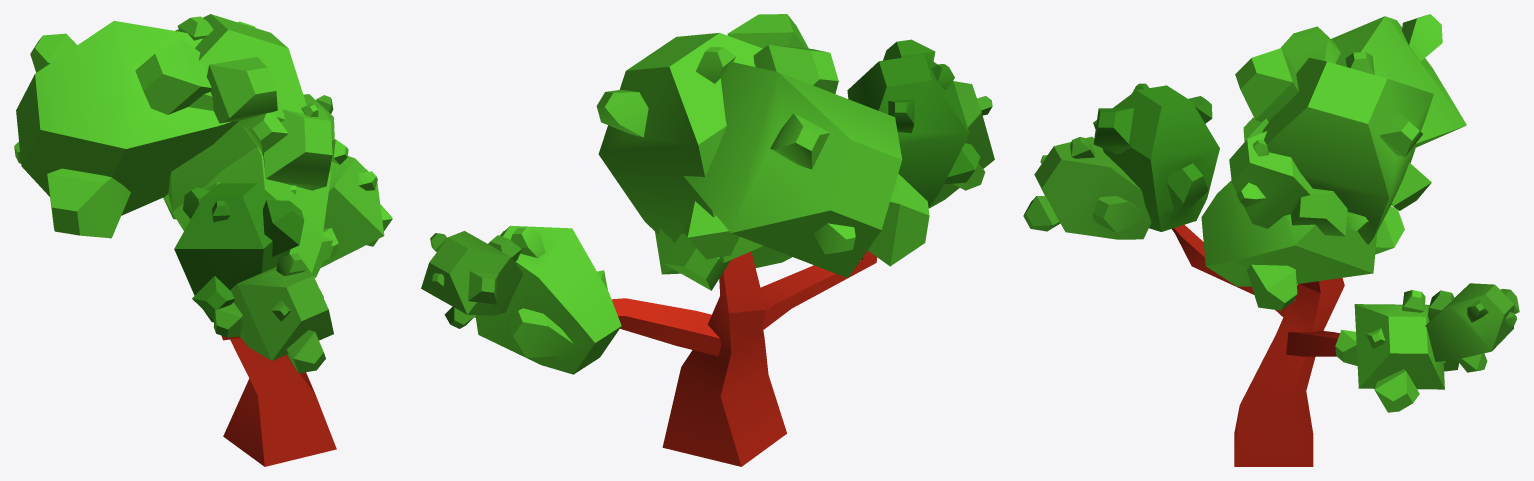
The model's file is basic_tree.obj.
The picture shows the model from 3 angles, left to right: view 1: azimuth 30°, elevation 25°; view 2: azimuth 150°, elevation 25°; view 3: azimuth 270°, elevation 25°; orthographic projection. The views are drawn at different scales.
Parts seen in each view (by area): view 1: BranchesCBranchesuBranchesbBrancheseBranches.Branches0Branc.005, BranchesCBranchesuBranchesbBrancheseBranches.Branches0Branc.004, BranchesCBranchesuBranchesbBrancheseBranches.Branches0Branches0, BranchesCBranchesuBranchesbBrancheseBranchesBranch, Trunk, BranchesCBranchesuBranchesbBrancheseBranches.Branches0Branc.003, BranchesCBranchesuBranchesbBrancheseBranches.Branches0BrancBran, BranchesCBranchesuBranchesbBrancheseBranches.Branches0Branc.002, BranchesCBranchesuBranchesbBrancheseBranches.Branches0Branc.001; view 2: BranchesCBranchesuBranchesbBrancheseBranches.Branches0Branc.005, Trunk, BranchesCBranchesuBranchesbBrancheseBranches.Branches0Branc.004, BranchesCBranchesuBranchesbBrancheseBranches.Branches0BrancBran, BranchesCBranchesuBranchesbBrancheseBranches.Branches0Branches0, BranchesCBranchesuBranchesbBrancheseBranches.Branches0Branc.001, BranchesCBranchesuBranchesbBrancheseBranches.Branches0Branc.002, BranchesCBranchesuBranchesbBrancheseBranchesBranch; view 3: BranchesCBranchesuBranchesbBrancheseBranches.Branches0Branc.004, Trunk, BranchesCBranchesuBranchesbBrancheseBranches.Branches0Branc.002, BranchesCBranchesuBranchesbBrancheseBranches.Branches0Branches0, BranchesCBranchesuBranchesbBrancheseBranches.Branches0Branc.005, BranchesCBranchesuBranchesbBrancheseBranchesBranch, BranchesCBranchesuBranchesbBrancheseBranches.Branches0BrancBran, BranchesCBranchesuBranchesbBrancheseBranches.Branches0Branc.001, BranchesCBranchesuBranchesbBrancheseBranches.Branches0Branc.003.
Part boxes in pixels (x1,y1,x2,y2): BranchesCBranchesuBranchesbBrancheseBranches.Branches0Branc.005: [14, 21, 238, 238]; BranchesCBranchesuBranchesbBrancheseBranches.Branches0Branc.004: [164, 14, 306, 219]; BranchesCBranchesuBranchesbBrancheseBranches.Branches0Branches0: [174, 183, 304, 322]; BranchesCBranchesuBranchesbBrancheseBranchesBranch: [213, 253, 333, 373]; Trunk: [221, 336, 336, 466]; BranchesCBranchesuBranchesbBrancheseBranches.Branches0Branc.003: [243, 103, 348, 194]; BranchesCBranchesuBranchesbBrancheseBranches.Branches0BrancBran: [320, 156, 392, 267]; BranchesCBranchesuBranchesbBrancheseBranches.Branches0Branc.002: [163, 147, 332, 277]; BranchesCBranchesuBranchesbBrancheseBranches.Branches0Branc.001: [303, 94, 334, 140]; BranchesCBranchesuBranchesbBrancheseBranches.Branches0Branc.005: [683, 44, 929, 278]; Trunk: [611, 250, 877, 466]; BranchesCBranchesuBranchesbBrancheseBranches.Branches0Branc.004: [596, 14, 808, 262]; BranchesCBranchesuBranchesbBrancheseBranches.Branches0BrancBran: [474, 225, 621, 374]; BranchesCBranchesuBranchesbBrancheseBranches.Branches0Branches0: [847, 39, 980, 207]; BranchesCBranchesuBranchesbBrancheseBranches.Branches0Branc.001: [421, 231, 523, 328]; BranchesCBranchesuBranchesbBrancheseBranches.Branches0Branc.002: [655, 228, 791, 290]; BranchesCBranchesuBranchesbBrancheseBranchesBranch: [928, 81, 994, 208]; BranchesCBranchesuBranchesbBrancheseBranches.Branches0Branc.004: [1235, 48, 1433, 244]; Trunk: [1172, 224, 1344, 466]; BranchesCBranchesuBranchesbBrancheseBranches.Branches0Branc.002: [1201, 180, 1404, 310]; BranchesCBranchesuBranchesbBrancheseBranches.Branches0Branches0: [1093, 83, 1219, 231]; BranchesCBranchesuBranchesbBrancheseBranches.Branches0Branc.005: [1281, 14, 1466, 210]; BranchesCBranchesuBranchesbBrancheseBranchesBranch: [1023, 136, 1151, 239]; BranchesCBranchesuBranchesbBrancheseBranches.Branches0BrancBran: [1335, 290, 1459, 412]; BranchesCBranchesuBranchesbBrancheseBranches.Branches0Branc.001: [1425, 283, 1519, 372]; BranchesCBranchesuBranchesbBrancheseBranches.Branches0Branc.003: [1229, 117, 1312, 228].
Size of the model in its own units: 10.6 by 10.74 by 12.57.
